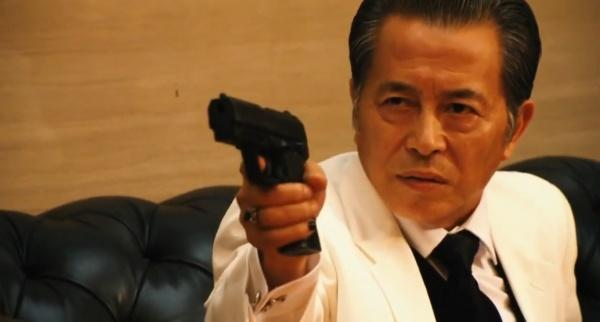Gun: (207, 93, 322, 257)
